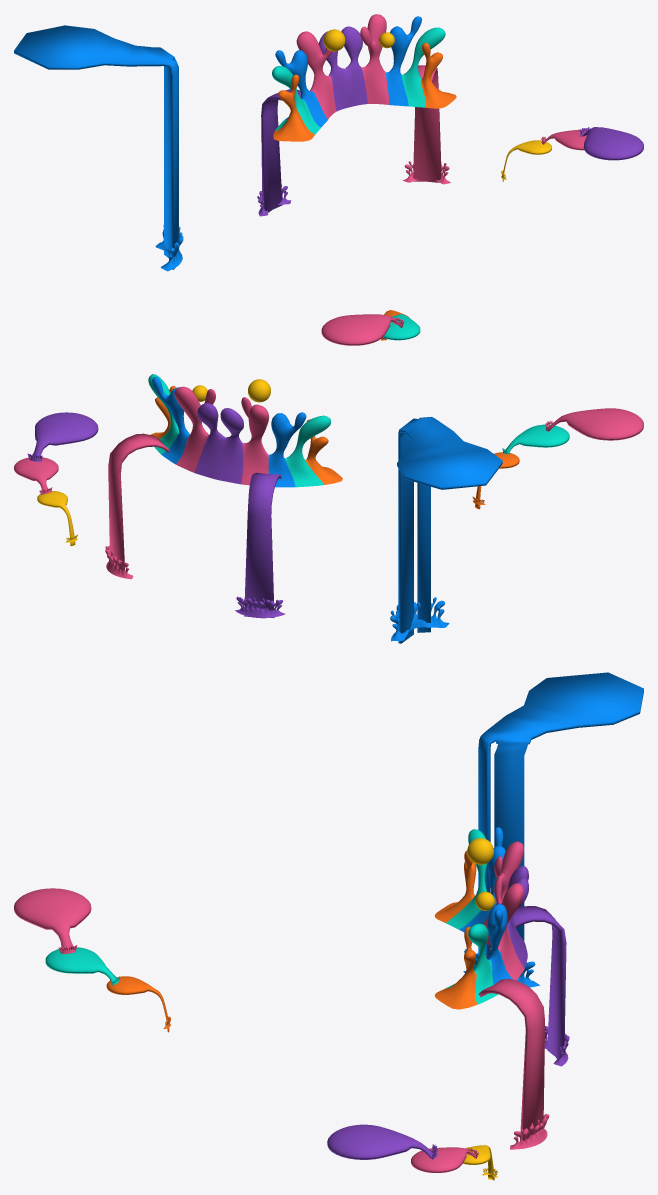
File: waterallinone.glb
3 views of the same model, one above another, from view 1: azimuth 30°, elevation 25°; view 2: azimuth 150°, elevation 25°; view 3: azimuth 270°, elevation 25° (orthographic). The views are drawn at different scales.
Parts seen in each view (by area): view 1: RiverWater; view 2: RiverWater; view 3: RiverWater.
Boxes of the visible parts, x1,y1,x2,y2 form: RiverWater: (14,14,643,345); RiverWater: (14,374,643,643); RiverWater: (14,672,643,1180).
Size of what is drawn, in the model's own units: 77.2 by 29.05 by 66.05.
Materials: 6 (6 with a texture image).
